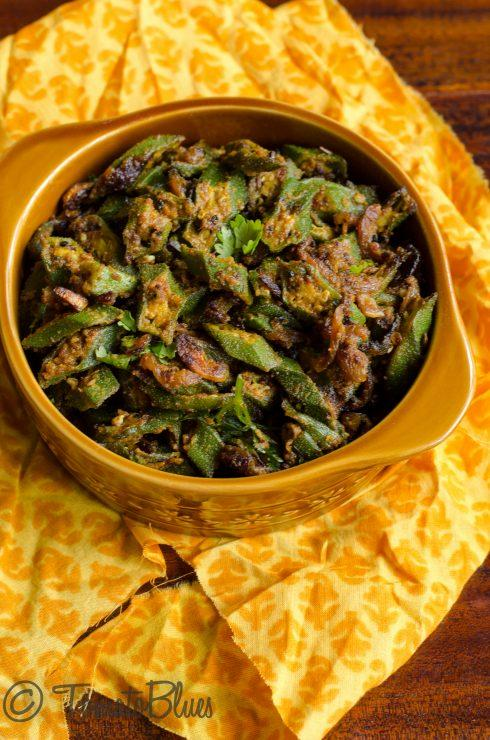bhindi: (53, 145, 416, 441)
